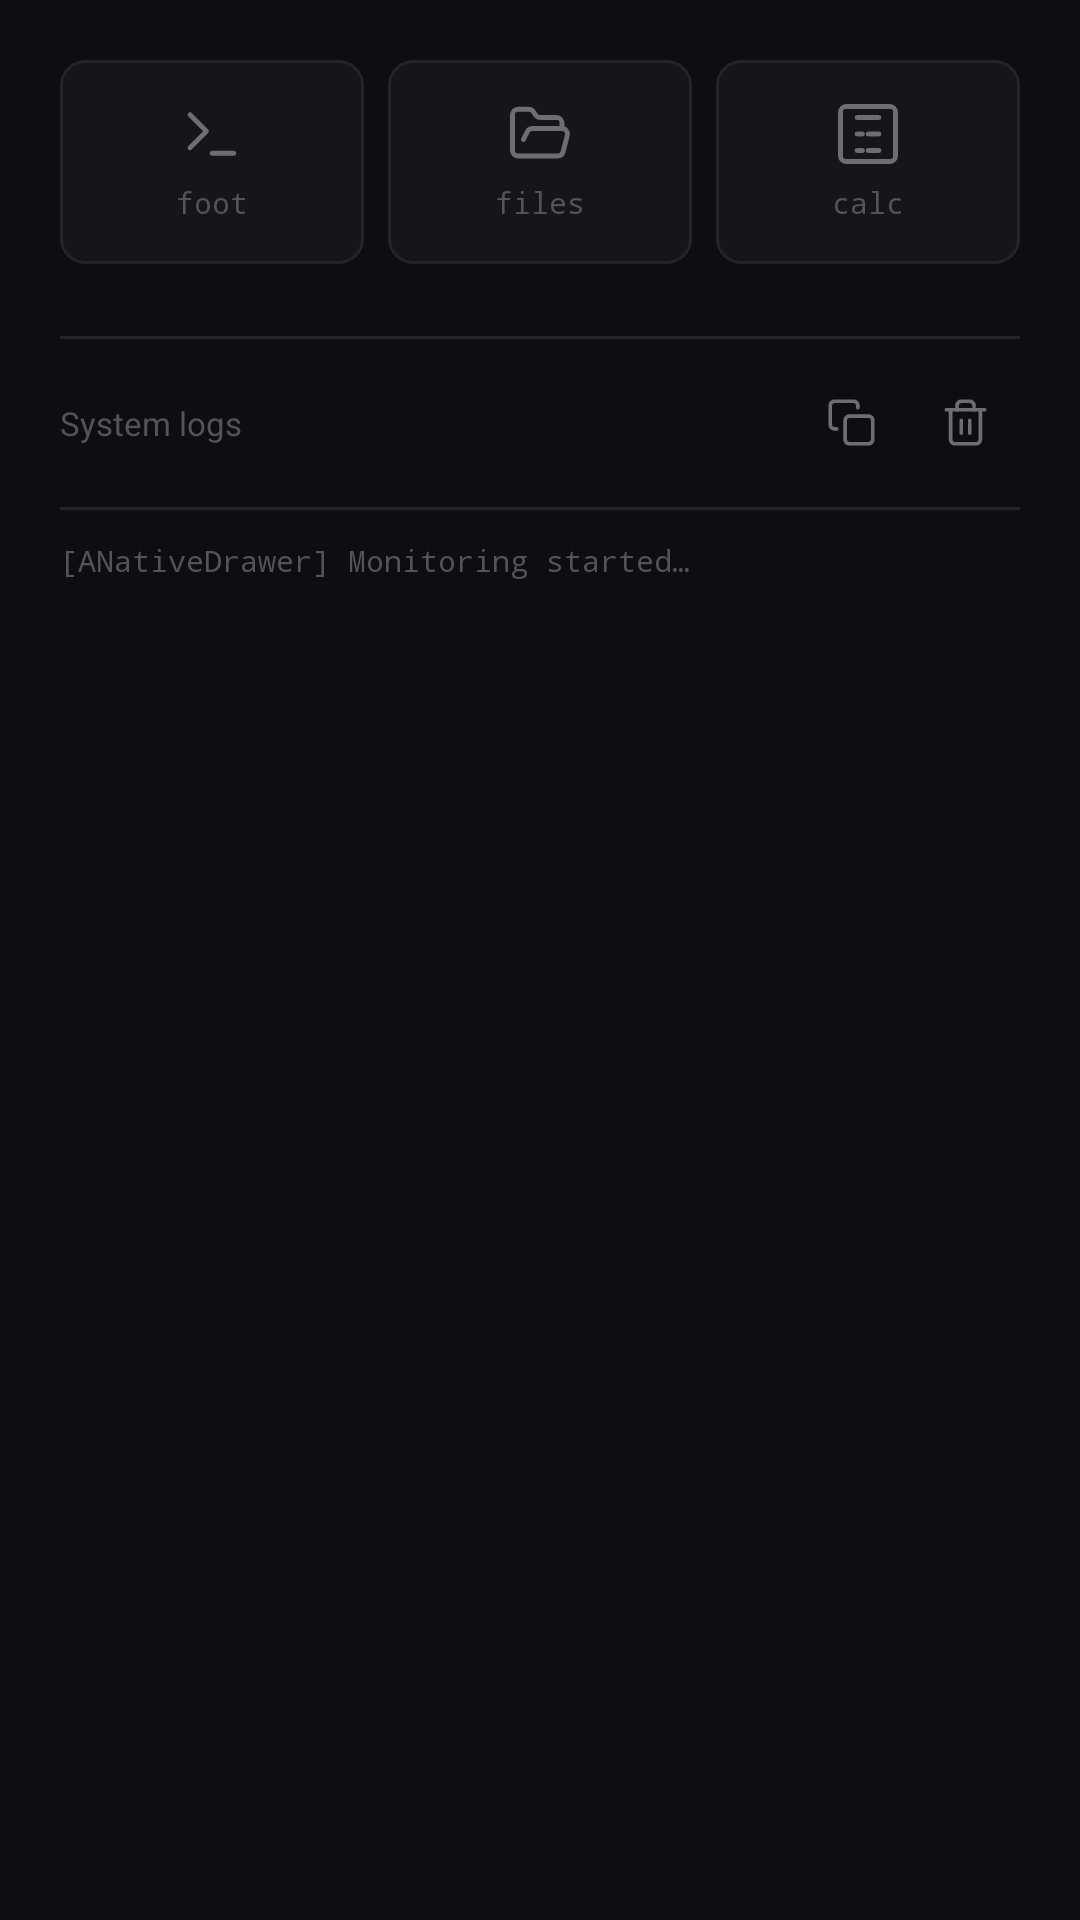

Icons on this 1080w x 1920h Android screen, each with the point to tap as (x,y):
folder: (540,133)
terminal: (211,134)
trash: (965,422)
